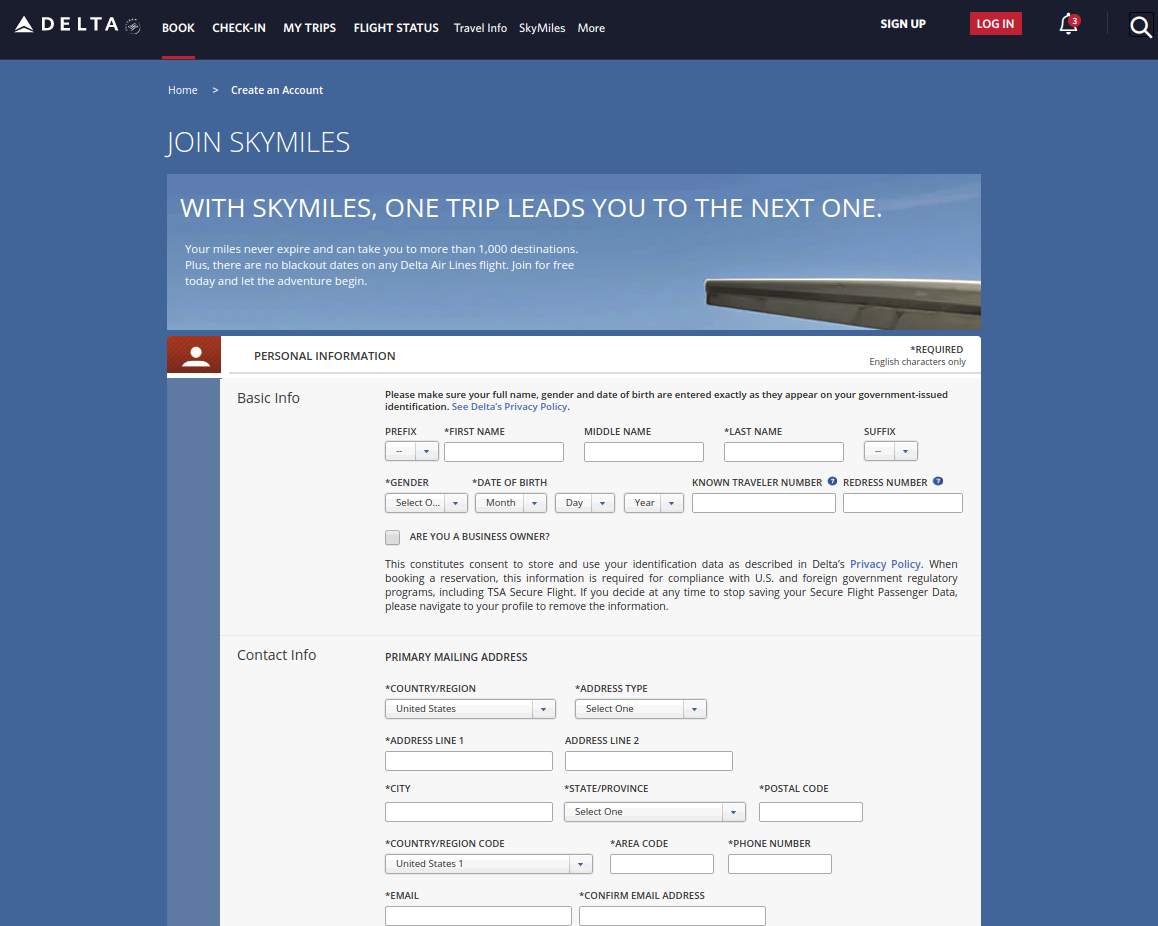Delta Airlines: (5, 10, 124, 45)
